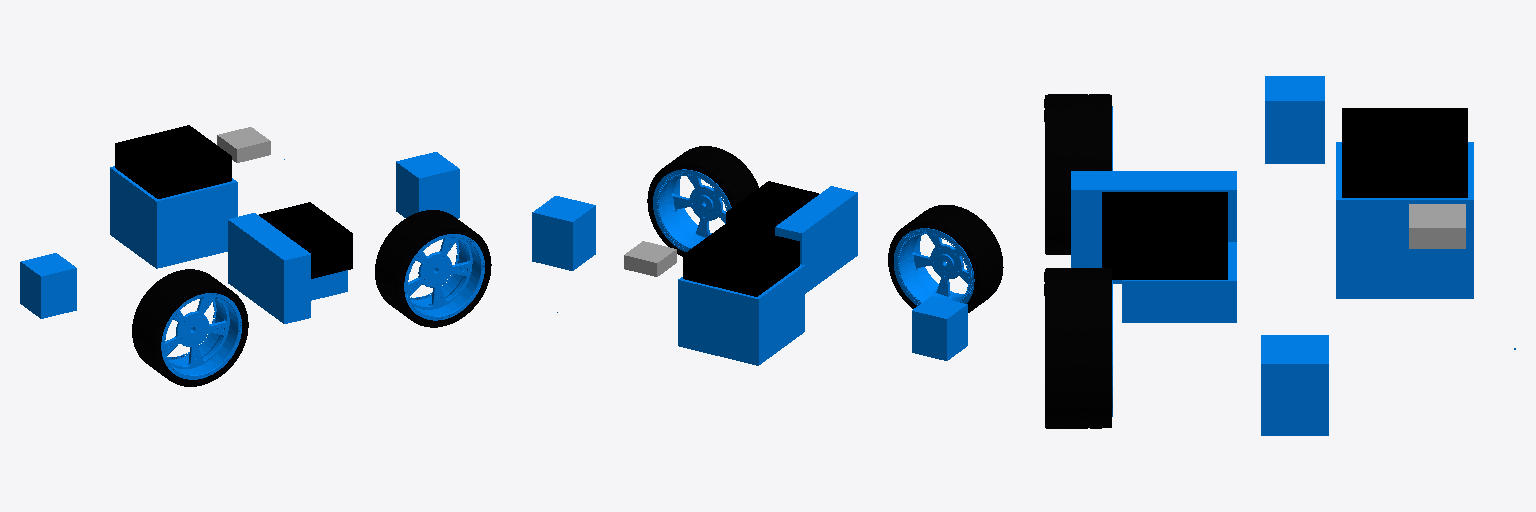
The robot description file, URDF, robot "tas_car":
<?xml version="1.0" ?>
<robot name="tas_car" xmlns:xacro="http://www.ros.org/wiki/xacro">
<!-- =================================================================================== 
     Description: TAS2 urdf file.
                  This file is made to test the ackermann steering (in progress).
     Author: [author]
     Date: Oct 29, 2022                             
     =================================================================================== -->

  <!-- ************ visual materials ************ -->
  <material name="Grey">
    <color rgba="0.7 0.7 0.7 1.0"/>
  </material>
  <material name="Green">
    <color rgba="0.0 1.0 0.0 1.0"/>
  </material>
  <material name="Red">
    <color rgba="1.0 0.0 0.0 1.0"/>
  </material>
  <material name="tas_blue">
    <color rgba="0.01 0.552 1.0 1.0"/>
  </material>
  <material name="Black">
    <color rgba="0 0 0 1.0"/>
  </material>

  <!-- ************ TAS2 basefootprint and base ************ -->
  <link name="base_footprint"/>
  <link name="base">
    <visual>
      <origin rpy="0 0 0" xyz="0 0 0"/>
      <geometry>
        <mesh filename="package://tas2-simulator/models/meshes/model_base_reduced.dae"/>
      </geometry>
    </visual>
    <collision>
      <origin rpy="0 0 0" xyz="0 0 0"/>
      <geometry>
        <mesh filename="package://tas2-simulator/models/meshes/model_base_reduced.dae"/>
      </geometry>
    </collision>
    <inertial>
      <mass value="15.0"/>
      <inertia ixx="0.0135" ixy="0.0" ixz="0.0" iyy="0.03" iyz="0.0" izz="0.433"/>
    </inertial>
  </link>
  <joint name="base_footprint_base_joint" type="fixed">
    <axis rpy="0 0 0" xyz="0 0 1"/>
    <origin rpy="0 0 0" xyz="0.1795 0 0"/>
    <parent link="base_footprint"/>
    <child link="base"/>
  </joint>

  <!-- ************ NUC PC related links and joints ************ -->
  <link name="nuc_base">
    <visual>
      <geometry>
        <box size="0.12 0.12 0.095"/>
      </geometry>
      <material name="tas_blue"/>
    </visual>
    <collision>
      <geometry>
        <box size="0.12 0.12 0.095"/>
      </geometry>
    </collision>
    <inertial>
      <mass value="0.001"/>
      <inertia ixx="0.00195" ixy="0.0" ixz="0.0" iyy="0.00195" iyz="0.0" izz="0.0024"/>
    </inertial>
  </link>
  <gazebo reference="nuc_base">
    <material>tas_blue</material>
  </gazebo>
  <joint name="base_nuc_base_joint" type="fixed">
    <axis rpy="0 0 0" xyz="0 0 1"/>
    <origin rpy="0 0 0" xyz="-0.04 0.096 0.065"/>
    <parent link="base"/>
    <child link="nuc_base"/>
  </joint>
  <link name="nuc">
    <visual>
      <geometry>
        <box size="0.11 0.11 0.035"/>
      </geometry>
      <material name="Black"/>
    </visual>
    <collision>
      <geometry>
        <box size="0.11 0.11 0.035"/>
      </geometry>
    </collision>
    <inertial>
      <mass value="0.001"/>
      <inertia ixx="0.0011" ixy="0.0" ixz="0.0" iyy="0.0011" iyz="0.0" izz="0.00202"/>
    </inertial>
  </link>
  <gazebo reference="nuc">
    <material>Gazebo/Black</material>
  </gazebo>
  <joint name="nuc_base_nuc_joint" type="fixed">
    <origin rpy="0 0 0" xyz="0 0 0.065"/>
    <axis rpy="0 0 0" xyz="0 0 1"/>
    <parent link="nuc_base"/>
    <child link="nuc"/>
  </joint>

  <!-- ************ Battery holder and battery related links and joints ************ -->
  <link name="battery_holder">
    <visual>
      <geometry>
        <box size="0.04 0.145 0.09"/>
      </geometry>
      <material name="tas_blue"/>
    </visual>
    <visual>
      <origin rpy="0 0 0" xyz="0.06 0.0225 -0.025"/>
      <geometry>
        <box size="0.08 0.1 0.04"/>
      </geometry>
      <material name="tas_blue"/>
    </visual>
    <collision>
      <geometry>
        <box size="0.04 0.145 0.09"/>
      </geometry>
    </collision>
    <collision>
      <origin rpy="0 0 0" xyz="0.06 0.0225 -0.025"/>
      <geometry>
        <box size="0.08 0.1 0.04"/>
      </geometry>
    </collision>
    <inertial>
      <mass value="0.001"/>
      <inertia ixx="0.00243" ixy="0.0" ixz="0.0" iyy="0.0008" iyz="0.0" izz="0.00189"/>
    </inertial>
    <inertial>
      <mass value="0.001"/>
      <ineria ixx="0.00097" ixy="0.0" ixz="0.0" iyy="0.0007" iyz="0.0" izz="0.00137"/>
      <origin rpy="0 0 0" xyz="0.06 0.0225 -0.025"/>
    </inertial>
  </link>
  <gazebo reference="battery_holder">
    <material>tas_blue</material>
  </gazebo>
  <joint name="base_battery_holder_joint" type="fixed">
    <axis rpy="0 0 0" xyz="0 0 1"/>
    <origin rpy="0 0 0" xyz="-0.025 -0.1235 0.065"/>
    <parent link="base"/>
    <child link="battery_holder"/>
  </joint>
  <link name="battery">
    <visual>
      <geometry>
        <box size="0.075 0.11 0.05"/>
      </geometry>
      <material name="Black"/>
    </visual>
    <collision>
      <geometry>
        <box size="0.075 0.11 0.05"/>
      </geometry>
    </collision>
    <inertial>
      <mass value="0.001"/>
      <inertia ixx="0.00122" ixy="0.0" ixz="0.0" iyy="0.00068" iyz="0.0" izz="0.00148"/>
    </inertial>
  </link>
  <gazebo reference="battery">
    <material>Gazebo/Black</material>
  </gazebo>
  <joint name="battery_holder_battery_joint" type="fixed">
    <origin rpy="0 0 0" xyz="0.06 0.01 0.02"/>
    <axis rpy="0 0 0" xyz="0 0 1"/>
    <parent link="battery_holder"/>
    <child link="battery"/>
  </joint>

  <!-- ************ Wheels related links and joints ************ -->
  <!--  Front rigt wheel  -->
  <link name="r_ack_link">
    <visual>
      <geometry>
        <box size="0.001 0.001 0.001"/>
      </geometry>
      <material name="tas_blue"/>
    </visual>
    <collision>
      <geometry>
        <box size="0.001 0.001 0.001"/>
      </geometry>
    </collision>
    <inertial>
      <mass value="0.5"/>
      <origin rpy="0 0 0" xyz="0 0 0"/>
      <inertia ixx="0.001" ixy="0.0" ixz="0.0" iyy="0.001" iyz="0.0" izz="0.001"/>
    </inertial>
  </link>
  <gazebo reference="r_ack_link">
    <material>tas_blue</material>
  </gazebo>
  <joint name="r_ack_joint" type="revolute">
    <origin rpy="0 0 0" xyz="0.1794 -0.19189 0.0435"/>
    <axis rpy="0 0 0" xyz="0 1 0"/>
    <parent link="base"/>
    <child link="r_ack_link"/>
    <limit upper="1e+16" lower="-1e+16" effort="1e+16" velocity="20"/>
  </joint>
  <link name="r_f_wheel">
    <visual>
      <origin rpy="0 0 0" xyz="0 0 0"/>
      <geometry>
        <mesh filename="package://tas2-simulator/models/meshes/model_wheel_right.dae"/>
      </geometry>
    </visual>
    <collision>
      <geometry>
        <mesh filename="package://tas2-simulator/models/meshes/model_wheel_right_collision.dae"/>
      </geometry>
    </collision>
    <inertial>
      <mass value="0.5"/>
      <origin xyz="0 0 0"/>
      <inertia ixx="0.00812" ixy="0.0" ixz="0.0" iyy="0.00812" iyz="0.0" izz="0.0156"/>
    </inertial>
  </link>
  <gazebo reference="r_f_wheel">
    <fdir1>1 0 0</fdir1>
    <maxContacts>1</maxContacts>
    <minDepth>0.005</minDepth>
    <collision>
      <surface>
        <friction>
          <ode>
            <mu>100000.0</mu>
            <mu2>100000.0</mu2>
            <slip1>0.0</slip1>
            <slip2>0.0</slip2>
          </ode>
          <torsional>
            <coefficient>10.0</coefficient>
            <surface_radius>1.0</surface_radius>
            <use_patch_radius>true</use_patch_radius>
          </torsional>
        </friction>
      </surface>
    </collision>
  </gazebo>
  <!--  Front left wheel  -->
  <link name="l_ack_link">
    <visual>
      <geometry>
        <box size="0.001 0.001 0.001"/>
      </geometry>
      <material name="tas_blue"/>
    </visual>
    <collision>
      <geometry>
        <box size="0.001 0.001 0.001"/>
      </geometry>
    </collision>
    <inertial>
      <mass value="0.5"/>
      <inertia ixx="0.001" ixy="0.0" ixz="0.0" iyy="0.001" iyz="0.0" izz="0.001"/>
    </inertial>
  </link>
  <gazebo reference="l_ack_link">
    <material>tas_blue</material>
  </gazebo>
  <joint name="l_ack_joint" type="revolute">
    <origin rpy="0 0 0" xyz="0.1794 0.19189 0.0435"/>
    <axis rpy="0 0 0" xyz="0 1 0"/>
    <parent link="base"/>
    <child link="l_ack_link"/>
    <limit upper="1e+16" lower="-1e+16" effort="1e+16" velocity="20"/>

  </joint>
  <link name="l_f_wheel">
    <visual>
      <origin rpy="0 0 0" xyz="0 0 0"/>
      <geometry>
        <mesh filename="package://tas2-simulator/models/meshes/model_wheel_left.dae"/>
      </geometry>
    </visual>
    <collision>
      <geometry>
        <mesh filename="package://tas2-simulator/models/meshes/model_wheel_left_collision.dae"/>
      </geometry>
    </collision>
    <inertial>
      <mass value="0.5"/>
      <origin xyz="0 0 0"/>
      <inertia ixx="0.00812" ixy="0.0" ixz="0.0" iyy="0.00812" iyz="0.0" izz="0.0156"/>
    </inertial>
  </link>
  <gazebo reference="l_f_wheel">
    <fdir1>1 0 0</fdir1>
    <maxContacts>1</maxContacts>
    <minDepth>0.005</minDepth>
    <collision>
      <surface>
        <friction>
          <ode>
            <mu>100000.0</mu>
            <mu2>100000.0</mu2>
            <slip1>0.0</slip1>
            <slip2>0.0</slip2>
          </ode>
          <torsional>
            <coefficient>10.0</coefficient>
            <surface_radius>1.0</surface_radius>
            <use_patch_radius>true</use_patch_radius>
          </torsional>
        </friction>
      </surface>
    </collision>
  </gazebo>
  <!--  Ackermann steering related joints. Not particularly used in case of differential drive steering  -->
  <joint name="l_ack_link_l_f_wheel_joint" type="revolute">
    <axis rpy="0 0 0" xyz="0 0 1"/>
    <origin rpy="1.570796325 0 3.14159265" xyz="0 0 0"/>
    <parent link="l_ack_link"/>
    <child link="l_f_wheel"/>
    <limit effort="1000000" lower="-0.4" upper="0.4" velocity="20"/>
  </joint>
  <joint name="r_ack_link_r_f_wheel_joint" type="revolute">
    <axis rpy="0 0 0" xyz="0 0 1"/>
    <origin rpy="1.570796325 0 3.14159265" xyz="0 0 0"/>
    <parent link="r_ack_link"/>
    <child link="r_f_wheel"/>
    <limit effort="1000000" lower="-0.4" upper="0.4" velocity="20"/>

  </joint>
  <!--  Back left wheel  -->
  <link name="l_b_wheel">
    <visual>
      <origin rpy="0 0 0" xyz="0 0 0"/>
      <geometry>
        <mesh filename="package://tas2-simulator/models/meshes/model_wheel_left.dae"/>
      </geometry>
    </visual>
    <collision>
      <geometry>
        <mesh filename="package://tas2-simulator/models/meshes/model_wheel_left_collision.dae"/>
      </geometry>
    </collision>
    <inertial>
      <mass value="0.5"/>
      <origin xyz="0 0 0"/>
      <inertia ixx="0.00812" ixy="0.0" ixz="0.0" iyy="0.00812" iyz="0.0" izz="0.0156"/>
    </inertial>
  </link>
  <gazebo reference="l_b_wheel">
    <fdir1>1 0 0</fdir1>
    <maxContacts>1</maxContacts>
    <minDepth>0.005</minDepth>
    <collision>
      <surface>
        <friction>
          <ode>
            <mu>100000.0</mu>
            <mu2>100000.0</mu2>
            <slip1>0.0</slip1>
            <slip2>0.0</slip2>
          </ode>
          <torsional>
            <coefficient>10.0</coefficient>
            <surface_radius>1.0</surface_radius>
            <use_patch_radius>true</use_patch_radius>
          </torsional>
        </friction>
      </surface>
    </collision>
  </gazebo>
  <joint name="base_l_b_wheel_joint" type="revolute">
    <axis rpy="0 0 0" xyz="0 0 1"/>
    <origin rpy="1.570796325 0 3.14159265" xyz="-0.1795 0.19189 0.0435"/>
    <parent link="base"/>
    <child link="l_b_wheel"/>
    <limit upper="1e+16" lower="-1e+16" effort="1e+16" velocity="20"/>

  </joint>
  <!--  Back right wheel  -->
  <link name="r_b_wheel">
    <visual>
      <origin rpy="0 0 0" xyz="0 0 0"/>
      <geometry>
        <mesh filename="package://tas2-simulator/models/meshes/model_wheel_right.dae"/>
      </geometry>
    </visual>
    <collision>
      <geometry>
        <mesh filename="package://tas2-simulator/models/meshes/model_wheel_right_collision.dae"/>
      </geometry>
    </collision>
    <inertial>
      <mass value="0.5"/>
      <origin xyz="0 0 0"/>
      <inertia ixx="0.00812" ixy="0.0" ixz="0.0" iyy="0.00812" iyz="0.0" izz="0.0156"/>
    </inertial>
  </link>
  <gazebo reference="r_b_wheel">
    <fdir1>1 0 0</fdir1>
    <maxContacts>1</maxContacts>
    <minDepth>0.005</minDepth>
    <collision>
      <surface>
        <friction>
          <ode>
            <mu>100000.0</mu>
            <mu2>100000.0</mu2>
            <slip1>0.0</slip1>
            <slip2>0.0</slip2>
          </ode>
          <torsional>
            <coefficient>10.0</coefficient>
            <surface_radius>1.0</surface_radius>
            <use_patch_radius>true</use_patch_radius>
          </torsional>
        </friction>
      </surface>
    </collision>
  </gazebo>
  <joint name="base_r_b_wheel_joint" type="revolute">
    <axis rpy="0 0 0" xyz="0 0 1"/>
    <origin rpy="1.570796325 0 3.14159265" xyz="-0.1795 -0.19189 0.0435"/>
    <parent link="base"/>
    <child link="r_b_wheel"/>
    <limit upper="1e+16" lower="-1e+16" effort="1e+16" velocity="20"/>
  </joint>

  <!-- ************ Front and back lasers related links and joints ************ -->
  <!--  Front laser support structures, links, joints  -->
  <link name="laser_sup_front">
    <visual>
      <geometry>
        <box size="0.06 0.06 0.07"/>
      </geometry>
      <material name="tas_blue"/>
    </visual>
    <collision>
      <geometry>
        <box size="0.06 0.06 0.07"/>
      </geometry>
    </collision>
    <inertial>
      <mass value="0.001"/>
      <inertia ixx="0.00071" ixy="0.0" ixz="0.0" iyy="0.00071" iyz="0.0" izz="0.0006"/>
    </inertial>
  </link>
  <joint name="base_laser_sup_front_joint" type="fixed">
    <origin rpy="0 0 0" xyz="0.28 0 0.055"/>
    <axis rpy="0 0 0" xyz="0 0 1"/>
    <parent link="base"/>
    <child link="laser_sup_front"/>
  </joint>
  <link name="laser_front_link">
    <visual>
      <origin xyz="0 0 -0.025"/>
      <geometry>
        <mesh filename="package://tas2-simulator/models/meshes/hokuyo.dae"/>
      </geometry>
      <material name="Green"/>
    </visual>
    <collision>
      <origin xyz="0 0 -0.025"/>
      <geometry>
        <box size="0.05 0.05 0.07"/>
      </geometry>
    </collision>
    <inertial>
      <mass value="0.001"/>
      <origin xyz="0 0 0"/>
      <inertia ixx="0.0001" ixy="0.0" ixz="0.0" iyy="0.0001" iyz="0.0" izz="0.0001"/>
    </inertial>
  </link> --> -->
  <joint name="laser_front_joint" type="fixed">
    <origin rpy="0 0 0" xyz="0.28 0.0 0.15"/>
    <axis rpy="0 0 0" xyz="0 0 1"/>
    <parent link="base"/>
    <child link="laser_front_link"/>
  </joint>
  <!--  back laser support structures, links, joints  -->
  <link name="laser_sup_back">
    <visual>
      <geometry>
        <box size="0.053 0.053 0.06"/>
      </geometry>
      <material name="tas_blue"/>
    </visual>
    <collision>
      <geometry>
        <box size="0.053 0.053 0.06"/>
      </geometry>
    </collision>
    <inertial>
      <mass value="0.001"/>
      <inertia ixx="0.000534" ixy="0.0" ixz="0.0" iyy="0.000534" iyz="0.0" izz="0.00047"/>
    </inertial>
  </link>
  <joint name="base_laser_sup_back_joint" type="fixed">
    <origin rpy="0 0 0" xyz="-0.28 0 0.05"/>
    <axis rpy="0 0 0" xyz="0 0 1"/>
    <parent link="base"/>
    <child link="laser_sup_back"/>
  </joint> -->
  <link name="laser_back_link">
    <visual>
      <origin xyz="0 0 -0.025"/>
      <geometry>
        <mesh filename="package://tas2-simulator/models/meshes/hokuyo.dae"/>
      </geometry>
      <material name="Green"/>
    </visual>
    <collision>
      <origin xyz="0 0 -0.025"/>
      <geometry>
        <box size="0.05 0.05 0.07"/>
      </geometry>
    </collision>
    <inertial>
      <mass value="0.001"/>
      <origin xyz="0 0 0"/>
      <inertia ixx="0.0001" ixy="0.0" ixz="0.0" iyy="0.0001" iyz="0.0" izz="0.0001"/>
    </inertial>
  </link>
  <joint name="laser_back_joint" type="fixed">
    <origin rpy="0 0 3.14159265" xyz="-0.28 0.0 0.14"/>
    <axis rpy="0 0 0" xyz="0 0 1"/>
    <parent link="base"/>
    <child link="laser_back_link"/>
  </joint>

  <!-- ************ IMU related links and joints ************ -->
  <link name="imu_link">
    <visual>
      <origin rpy="0 0 0" xyz="0 0 0"/>
      <geometry>
        <box size="0.05 0.05 0.02"/>
      </geometry>
      <material name="Grey"/>
    </visual>
    <collision>
      <origin rpy="0 0 0" xyz="0 0 0"/>
      <geometry>
        <box size="0.05 0.05 0.02"/>
      </geometry>
    </collision>
    <inertial>
      <mass value="0.001"/>
      <inertia ixx="0.000242" ixy="0" ixz="0" iyy="0.000242" iyz="0" izz="0.000417"/>
    </inertial>
  </link>
  <joint name="imu_link_joint" type="fixed">
    <axis rpy="0 0 0" xyz="0 0 1"/>
    <origin rpy="0 0 0" xyz="0.08 0.124 0.115"/>
    <parent link="base"/>
    <child link="imu_link"/>
  </joint>
</robot>

--- What the picture shows (computed from the rendered views, not written in the file) ---
Views: 3 orthographic renders of the robot side by side, from view 1: azimuth 30°, elevation 25°; view 2: azimuth 150°, elevation 25°; view 3: azimuth 270°, elevation 25°.
Model tas_car with 17 links and 16 joints (6 revolute, 10 fixed), rooted at base_footprint, posed all joints at 0.
Links seen in each view (by area): view 1: r_f_wheel, r_b_wheel, nuc_base, battery_holder, nuc, battery, laser_sup_front, laser_sup_back, imu_link; view 2: nuc_base, r_b_wheel, r_f_wheel, nuc, battery_holder, laser_sup_front, laser_sup_back, battery, imu_link; view 3: nuc_base, battery_holder, nuc, battery, r_f_wheel, r_b_wheel, laser_sup_front, laser_sup_back, imu_link.
Boxes of the visible links, left/top/right/bottom form: r_f_wheel: left=375, top=210, right=491, bottom=327; r_b_wheel: left=132, top=269, right=248, bottom=386; nuc_base: left=110, top=166, right=237, bottom=268; battery_holder: left=228, top=213, right=347, bottom=323; nuc: left=115, top=125, right=231, bottom=198; battery: left=259, top=202, right=352, bottom=278; laser_sup_front: left=396, top=152, right=459, bottom=218; laser_sup_back: left=20, top=253, right=76, bottom=318; imu_link: left=217, top=127, right=270, bottom=162; nuc_base: left=678, top=264, right=804, bottom=365; r_b_wheel: left=888, top=205, right=1003, bottom=312; r_f_wheel: left=647, top=146, right=758, bottom=256; nuc: left=683, top=224, right=799, bottom=296; battery_holder: left=775, top=186, right=857, bottom=293; laser_sup_front: left=532, top=196, right=595, bottom=270; laser_sup_back: left=912, top=296, right=967, bottom=360; battery: left=726, top=181, right=818, bottom=234; imu_link: left=624, top=241, right=676, bottom=276; nuc_base: left=1336, top=142, right=1473, bottom=298; battery_holder: left=1071, top=171, right=1236, bottom=322; nuc: left=1342, top=108, right=1467, bottom=197; battery: left=1102, top=192, right=1227, bottom=279; r_f_wheel: left=1044, top=268, right=1112, bottom=428; r_b_wheel: left=1044, top=94, right=1112, bottom=254; laser_sup_front: left=1261, top=335, right=1328, bottom=435; laser_sup_back: left=1265, top=76, right=1324, bottom=163; imu_link: left=1409, top=204, right=1465, bottom=248.
Bounding box of the posed robot: 0.6165 × 0.4112 × 0.1739 m (x, y, z).
2 mesh visuals loaded from 4 distinct referenced files (1 Collada DAE); not drawn: 5 (reference not matched to a file when rendering).
